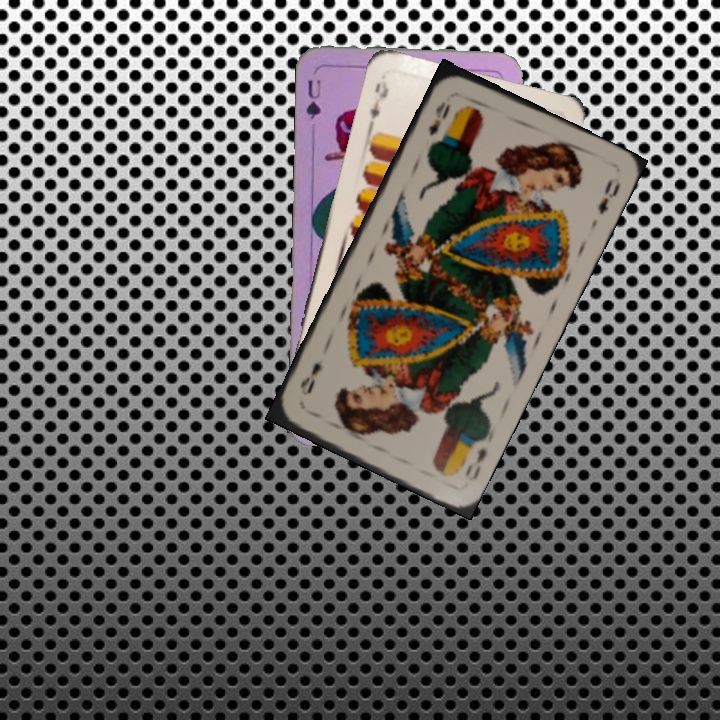E9: (365, 76, 391, 130)
EO: (424, 97, 454, 138), (460, 443, 490, 484)
GU: (301, 75, 323, 123)
